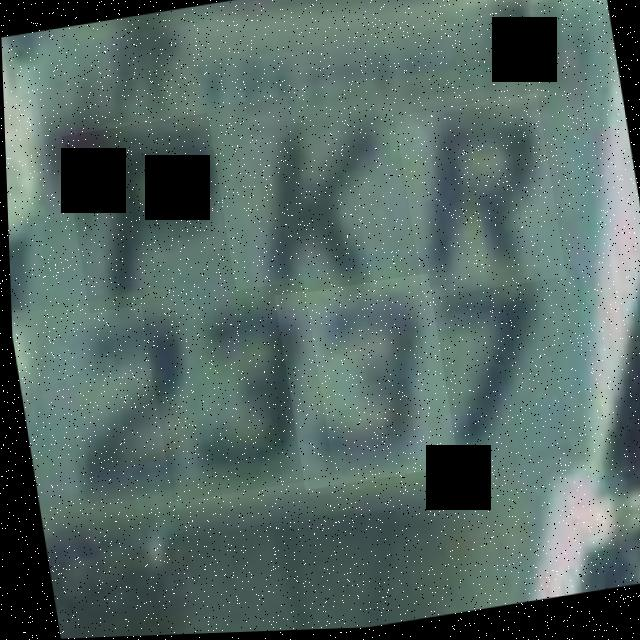2: (25, 285, 223, 515)
3: (138, 281, 331, 506), (271, 275, 456, 493)
7: (403, 269, 567, 482)
P: (59, 113, 234, 315)
R: (392, 96, 564, 302)
